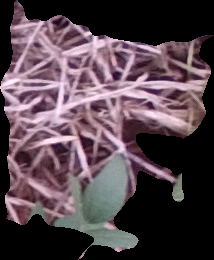soil: (1, 1, 213, 260)
